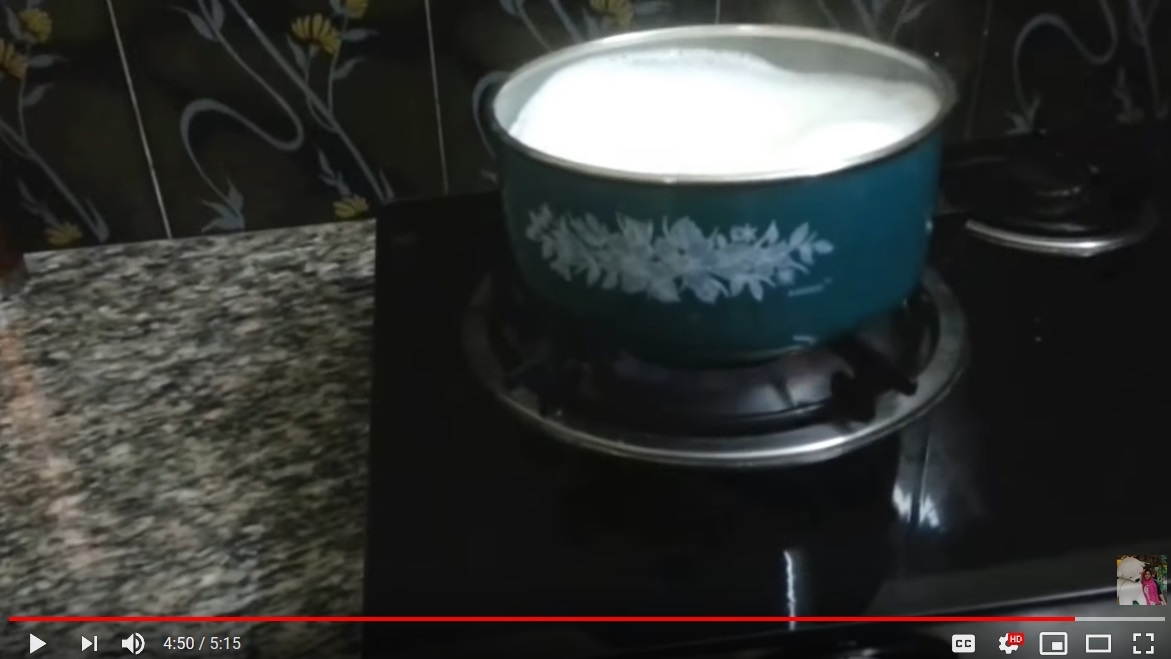Steaming: (464, 22, 964, 354)
